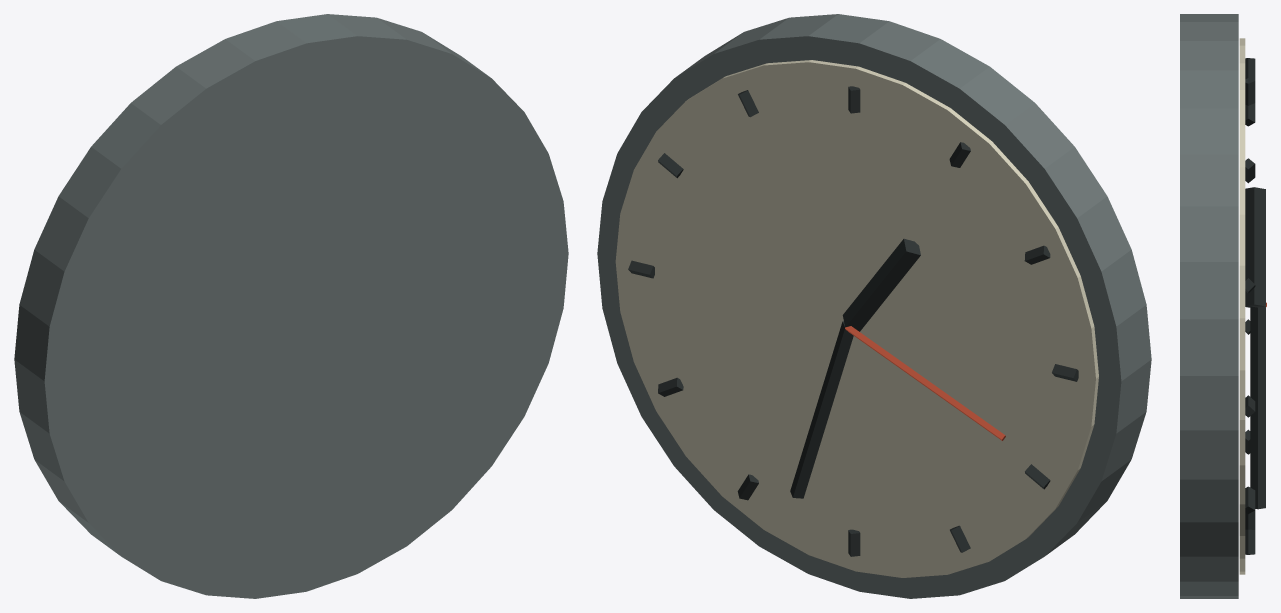
Rendered from wall_clock.glb.
3 renders of one model, left to right at view 1: azimuth 30°, elevation 25°; view 2: azimuth 150°, elevation 25°; view 3: azimuth 270°, elevation 25°, orthographic. The views are drawn at different scales.
Parts seen in each view (by area): view 1: wall_clock; view 2: wall_clock; view 3: wall_clock.
Part boxes in pixels (x1,y1,x2,y2): wall_clock: (14,14,568,598); wall_clock: (597,14,1151,598); wall_clock: (1180,14,1266,598).
Size of the model in its own units: 0.6 by 0.6 by 0.089.
